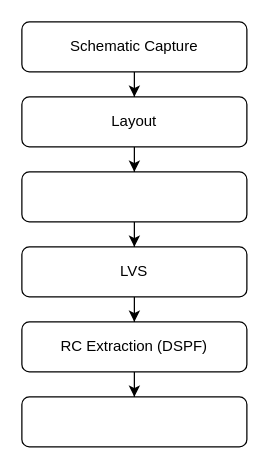
The diagram is 269 pixels wide and 469 high, and some of its shapes have lost their labels. The shapes that lost their labels are listed below. From the top down, each one's centre as x and y in pixels, then its label:
At point (134, 196): "Functional DRC".
At point (134, 421): "Post-Layout Simulation".
